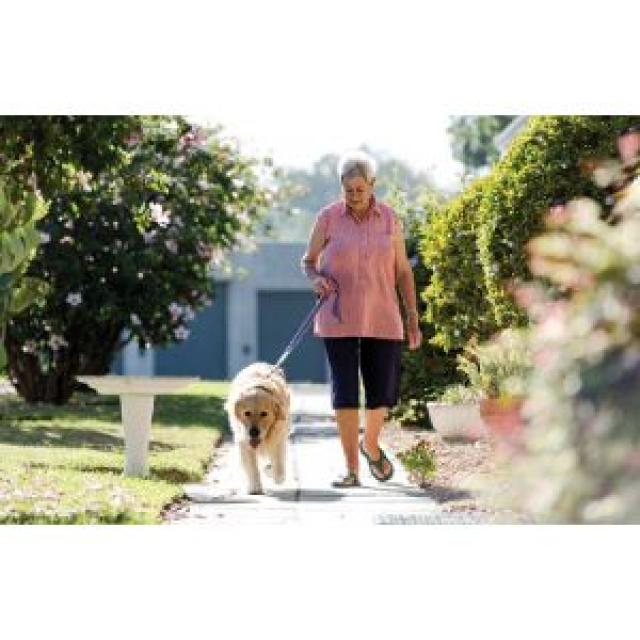nonfall: (309, 147, 434, 501)
